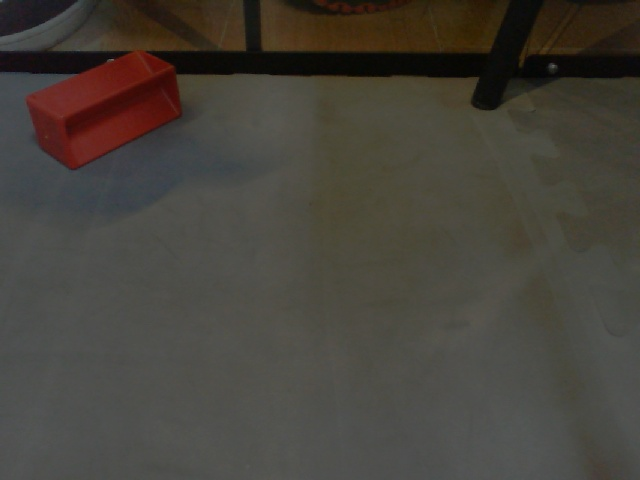RedSample: (23, 48, 183, 172)
